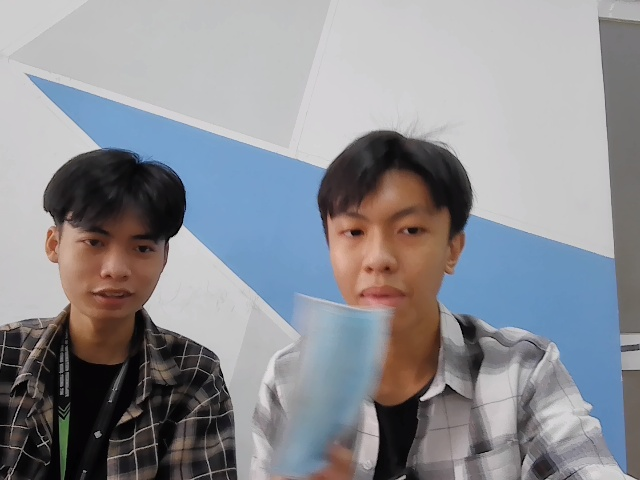human: (318, 127, 469, 323), (41, 155, 190, 320)
mask: (261, 287, 394, 477)
